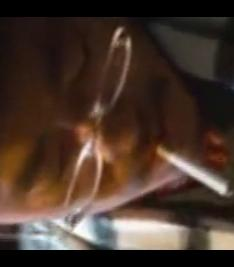Cigarette: (151, 144, 232, 196)
